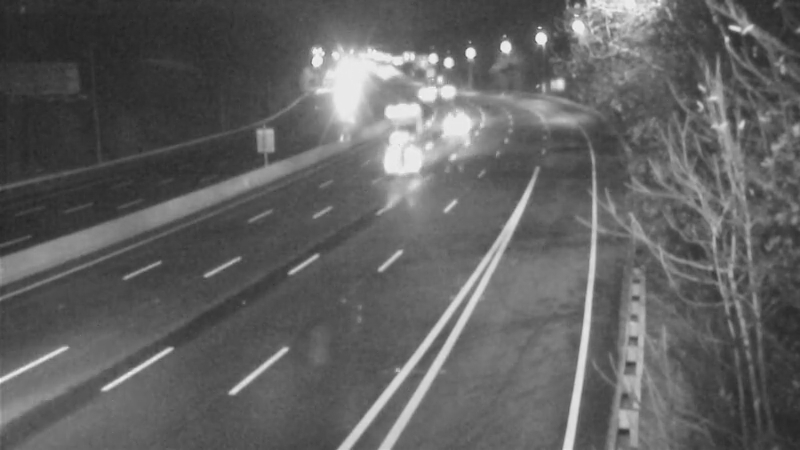vehicle: (362, 122, 442, 202), (423, 65, 473, 115), (400, 68, 450, 118), (434, 95, 484, 145), (376, 97, 426, 147)
